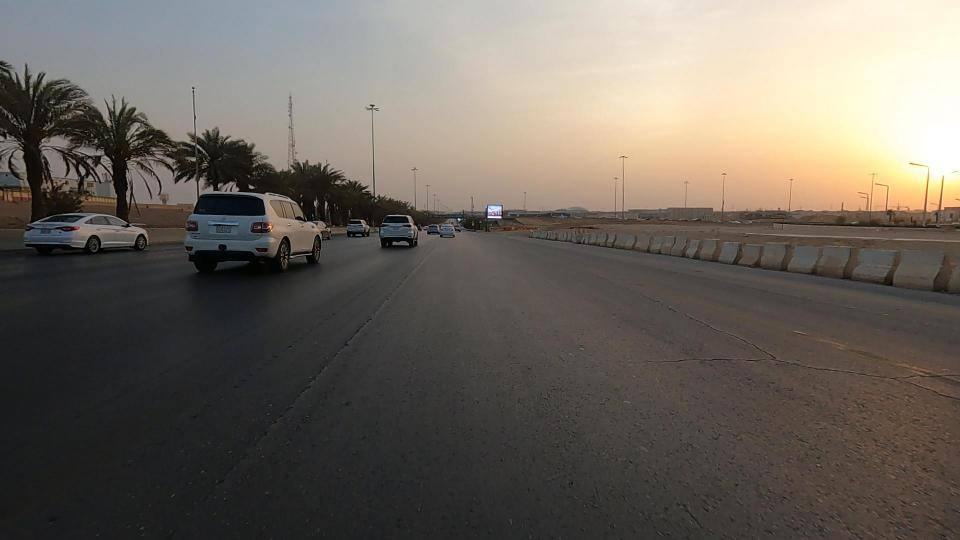CONSTRUCTION_ROAD: (740, 205, 925, 300), (651, 204, 784, 281), (596, 210, 689, 264), (525, 208, 618, 258)
